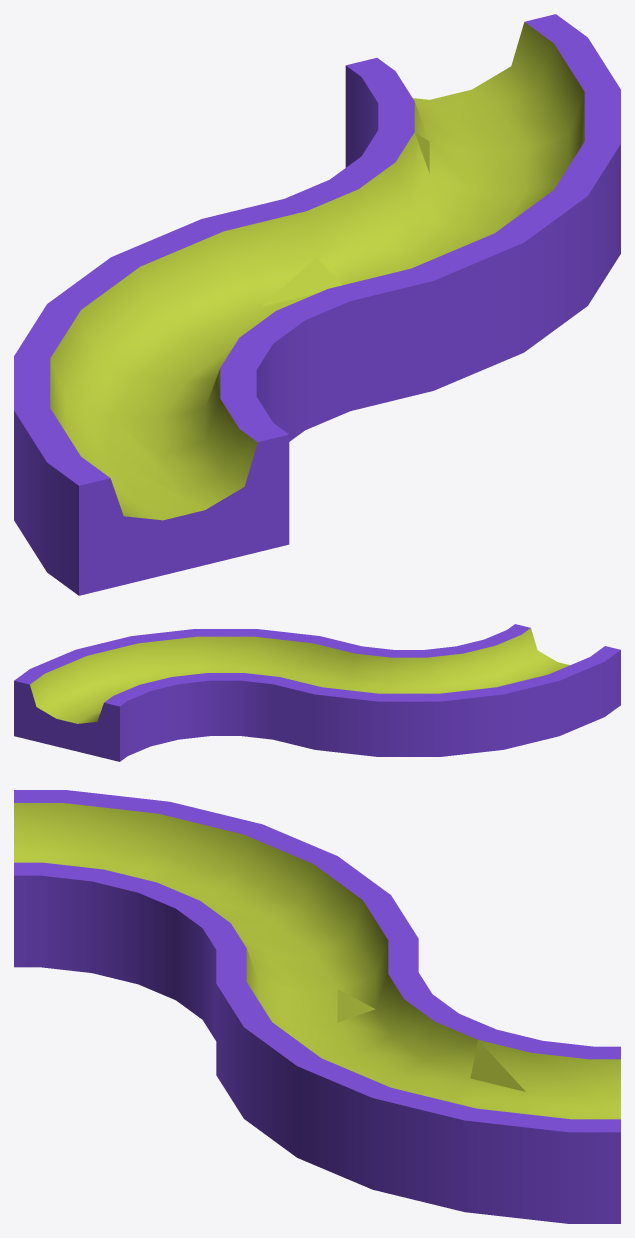
The model's file is s-curve_right-col.dae.
3 views of the same model, one above another, from view 1: azimuth 30°, elevation 25°; view 2: azimuth 150°, elevation 25°; view 3: azimuth 270°, elevation 25° (orthographic). The views are drawn at different scales.
Parts seen in each view (by area): view 1: s-curve_right-col; view 2: s-curve_right-col; view 3: s-curve_right-col.
Part boxes in pixels (bbox=[...]): s-curve_right-col: bbox=[14, 14, 620, 595]; s-curve_right-col: bbox=[14, 624, 620, 761]; s-curve_right-col: bbox=[14, 790, 620, 1223].
Size of the model in its own units: 4 by 3 by 0.5.
